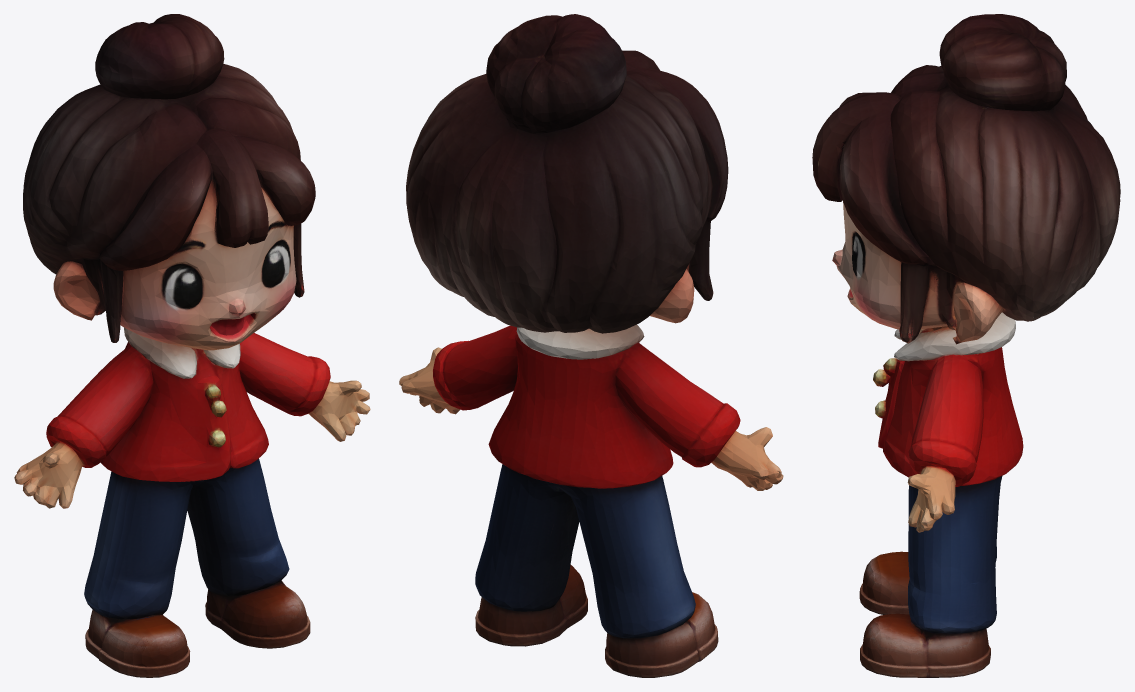
The model's file is yolcu-varyant-2.glb.
The picture shows the model from 3 angles, left to right: view 1: azimuth 30°, elevation 25°; view 2: azimuth 150°, elevation 25°; view 3: azimuth 270°, elevation 25°; orthographic projection. The views are drawn at different scales.
Parts seen in each view (by area): view 1: world; view 2: world; view 3: world.
Boxes of the visible parts, left/top/right/bottom form: world: left=14, top=14, right=370, bottom=677; world: left=399, top=14, right=783, bottom=677; world: left=812, top=14, right=1120, bottom=677.
Size of the model in its own units: 0.6234 by 0.9991 by 0.4595.
Materials: 1 (1 with a texture image).
